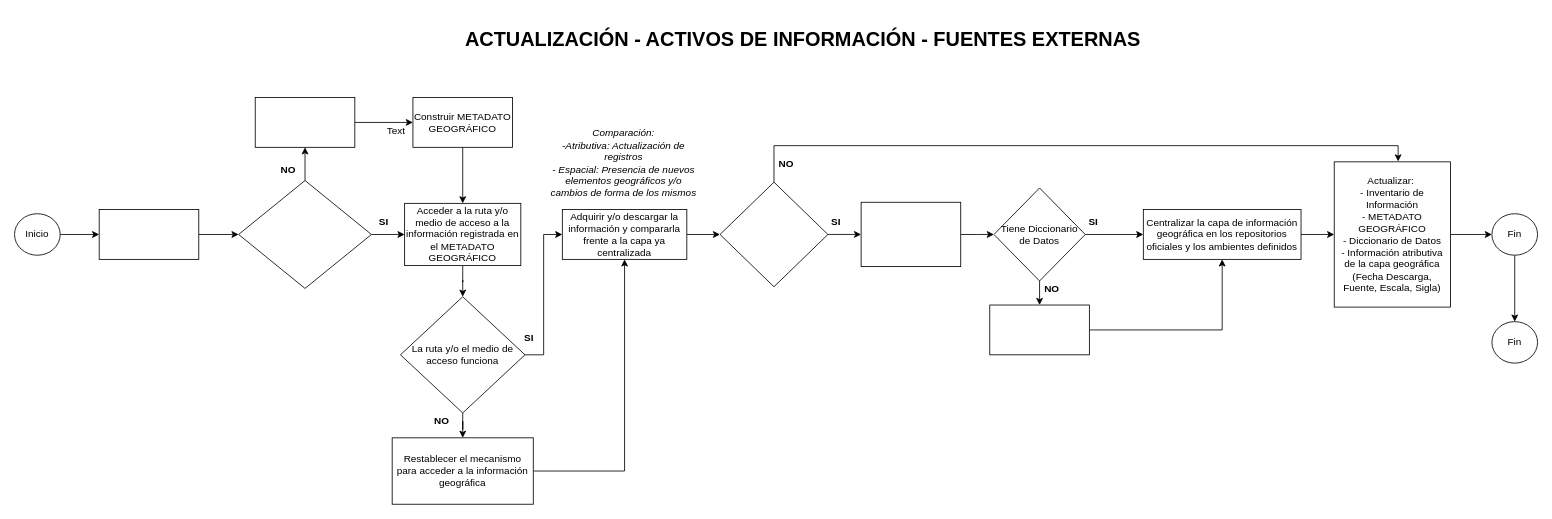
This 1552x519 diagram has some shape labels left out. The shapes that lost their labels are listed below. From the top down, each one's box as (x1, y1, x2, y2) in pixels, then its label:
(254, 97, 355, 147): Establecer el mecanismo para el acceso a la capa geográfica
(98, 209, 199, 259): Identificar capa geográfica a actualizar
(238, 180, 371, 288): Tiene METADATO GEOGRÁFICO?
(719, 181, 828, 287): Existen cambios atributivos y/o espaciales
(860, 201, 961, 267): Actualizar y/o modificar el activo de información geográfico
(989, 304, 1089, 355): Definir el Diccionario de Datos según lineamiento SSIT\ESIG
